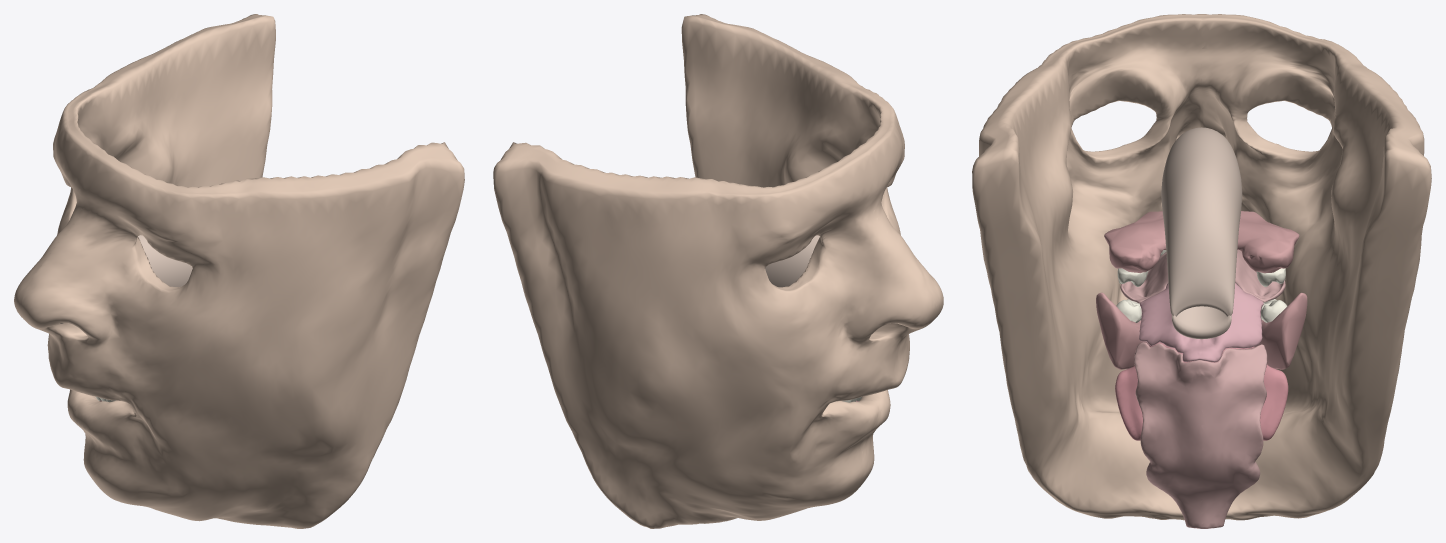
The model's file is reference.glb.
3 views of the same model, side by side, from view 1: azimuth 30°, elevation 25°; view 2: azimuth 150°, elevation 25°; view 3: azimuth 270°, elevation 25° (orthographic). The views are drawn at different scales.
Visible parts, largest first — view 1: skin, nasal_wall; view 2: skin, nasal_wall; view 3: skin, oral_wall, nasal_wall, upper-gum, soft_palate, lower-gum, tongue.
Part boxes in pixels (<box>): skin: <box>14,14,464,528</box>; nasal_wall: <box>60,235,192,323</box>; skin: <box>493,14,943,528</box>; nasal_wall: <box>765,235,897,323</box>; skin: <box>972,14,1431,520</box>; oral_wall: <box>1120,249,1285,528</box>; nasal_wall: <box>1161,127,1242,339</box>; upper-gum: <box>1104,211,1299,273</box>; soft_palate: <box>1139,283,1263,362</box>; lower-gum: <box>1096,292,1307,369</box>; tongue: <box>1115,342,1288,440</box>.
Size of the model in its own units: 0.155 by 0.1732 by 0.1649.
